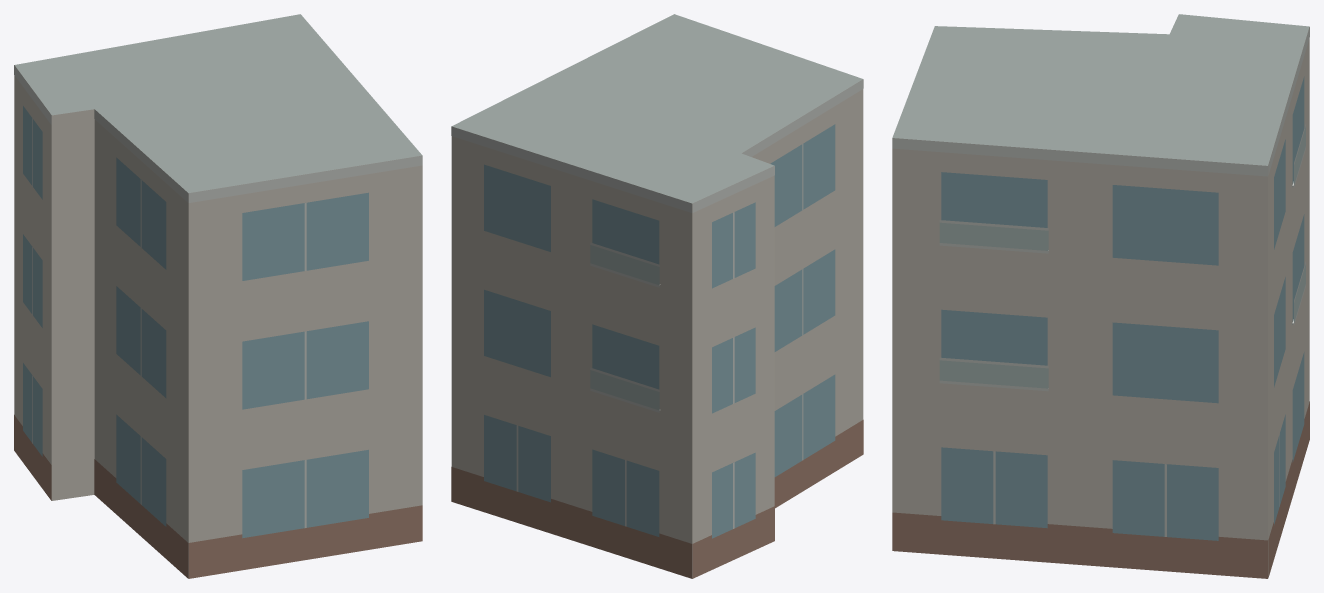
File: survey-upis-32503425.glb
The picture shows the model from 3 angles, left to right: view 1: azimuth 30°, elevation 25°; view 2: azimuth 150°, elevation 25°; view 3: azimuth 270°, elevation 25°; orthographic projection. The views are drawn at different scales.
Parts seen in each view (by area): view 1: survey-upis-32503425.tmp; view 2: survey-upis-32503425.tmp; view 3: survey-upis-32503425.tmp.
Boxes of the visible parts, box(x1,y1,x2,y2) form: survey-upis-32503425.tmp: box(14, 14, 422, 578); survey-upis-32503425.tmp: box(451, 14, 863, 578); survey-upis-32503425.tmp: box(892, 14, 1309, 578).
Bounding box in the file's own units: 7.46 × 9.45 × 8.67.
